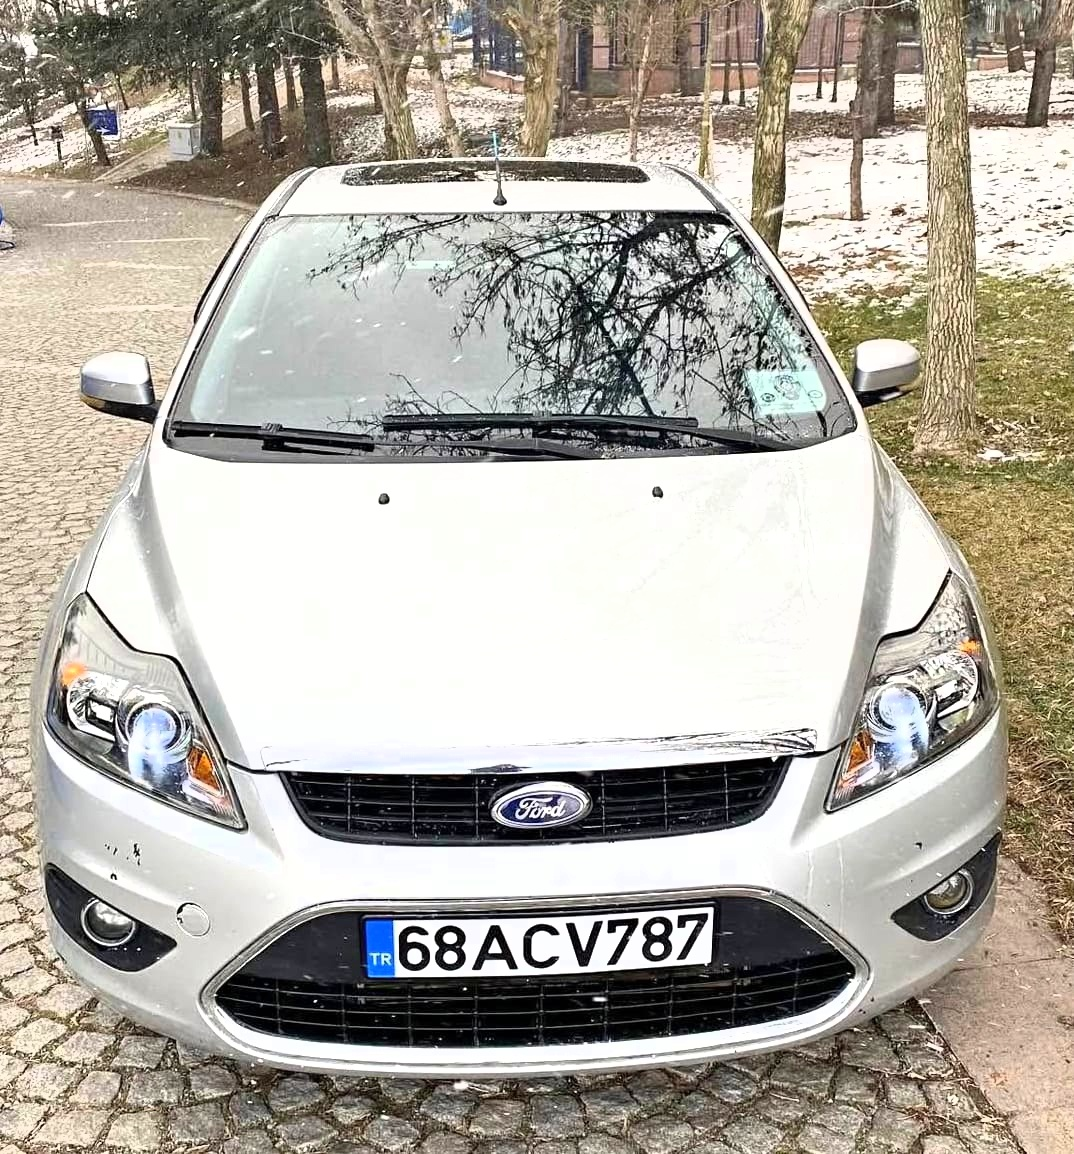plaka: (387, 899, 720, 983)
